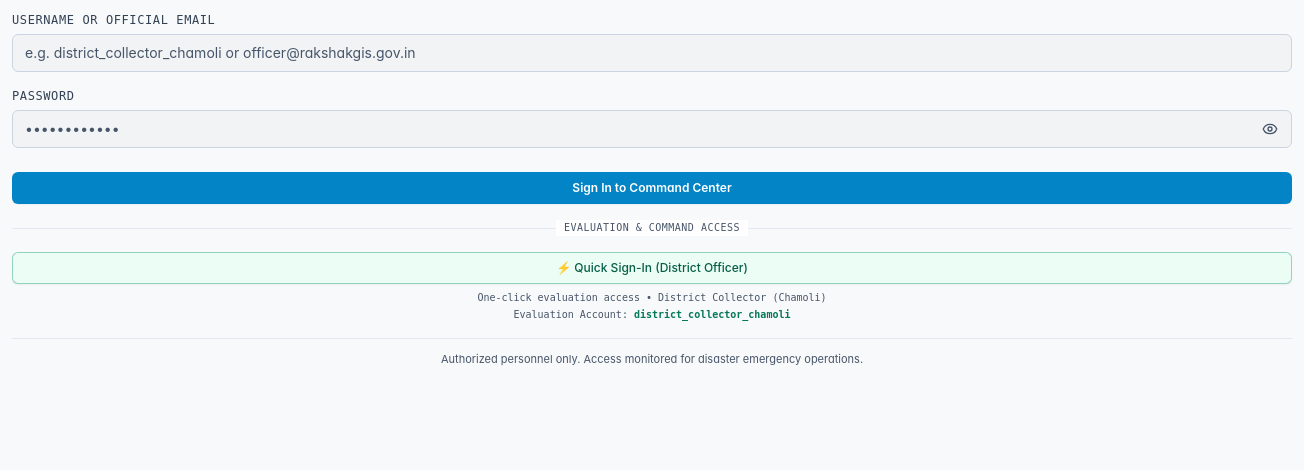
it: LoginForm Component › displays server error alert when authentication fails
The width and height of the screenshot is (1304, 470).
Type "bad_officer" into the field labelled "Username or Official Email" at (652, 53), box [12,34,1292,72]
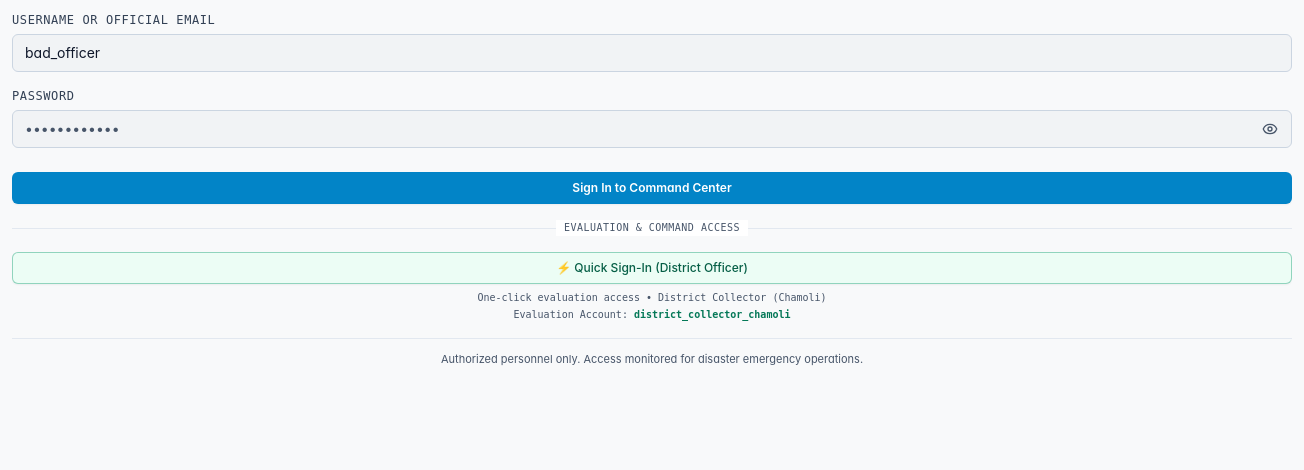
Type "wrong_password" into the password field labelled "Password" at (652, 129), box [12,110,1292,148]
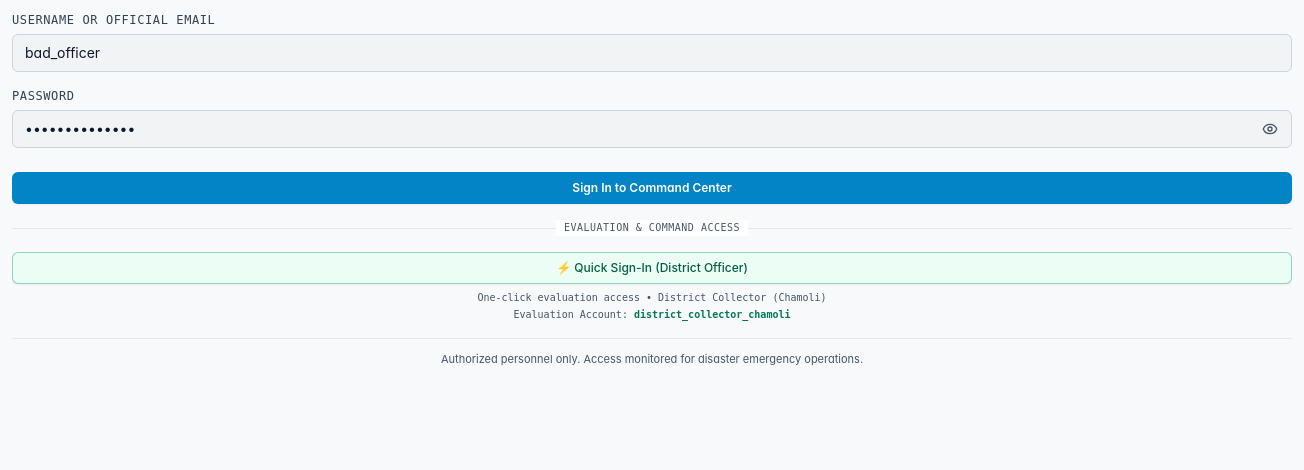
Click the button "Sign In to Command Center" at (652, 188), box [12,172,1292,204]
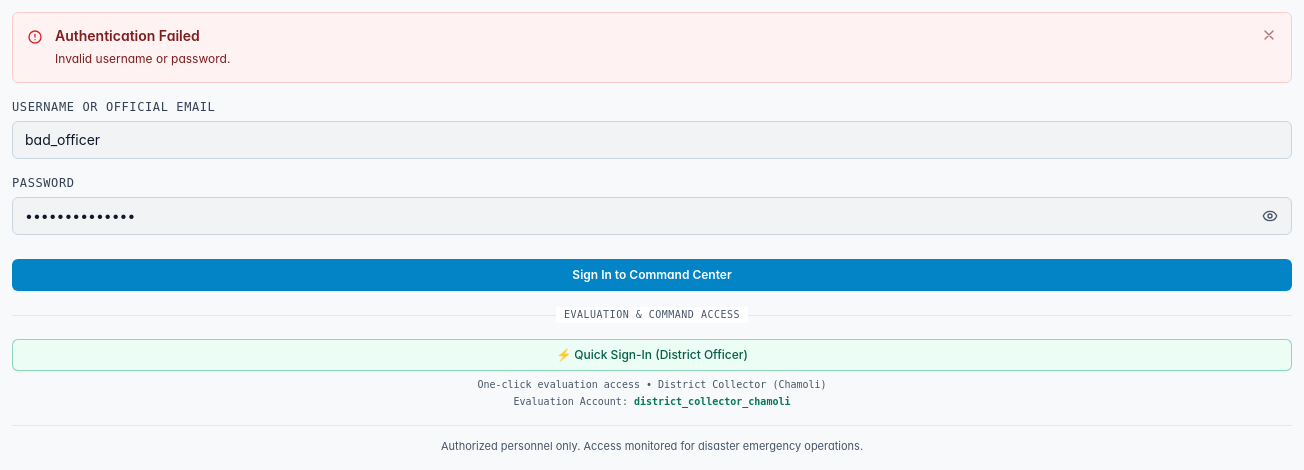
Check: the text "Invalid username or password." is shown, box [55,50,230,66]
# Dismiss alert
Click the button named "Dismiss alert" at (1269, 35), box [1257,23,1281,47]
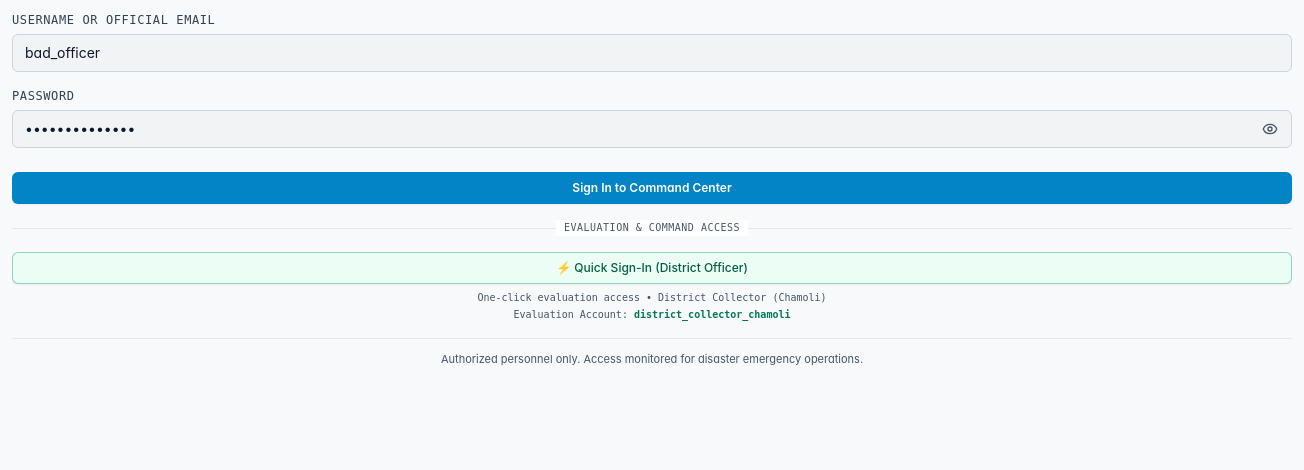
Check: the text "Invalid username or password." is gone
